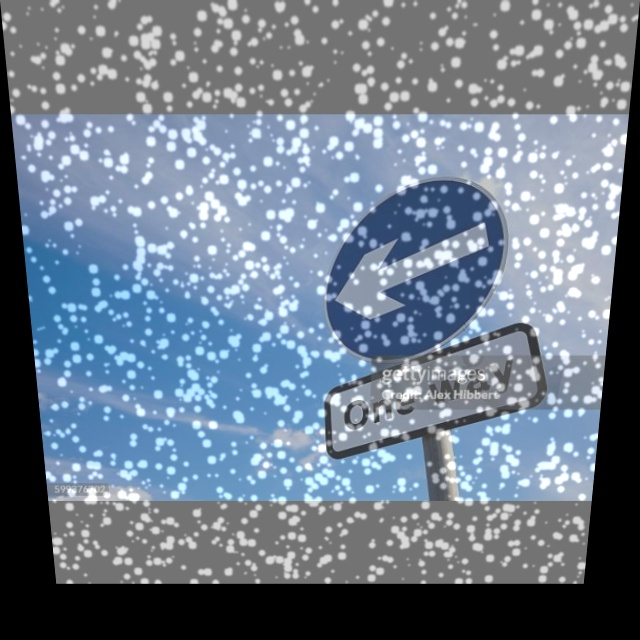Compulsory_Turn_Left: (316, 174, 510, 357)
